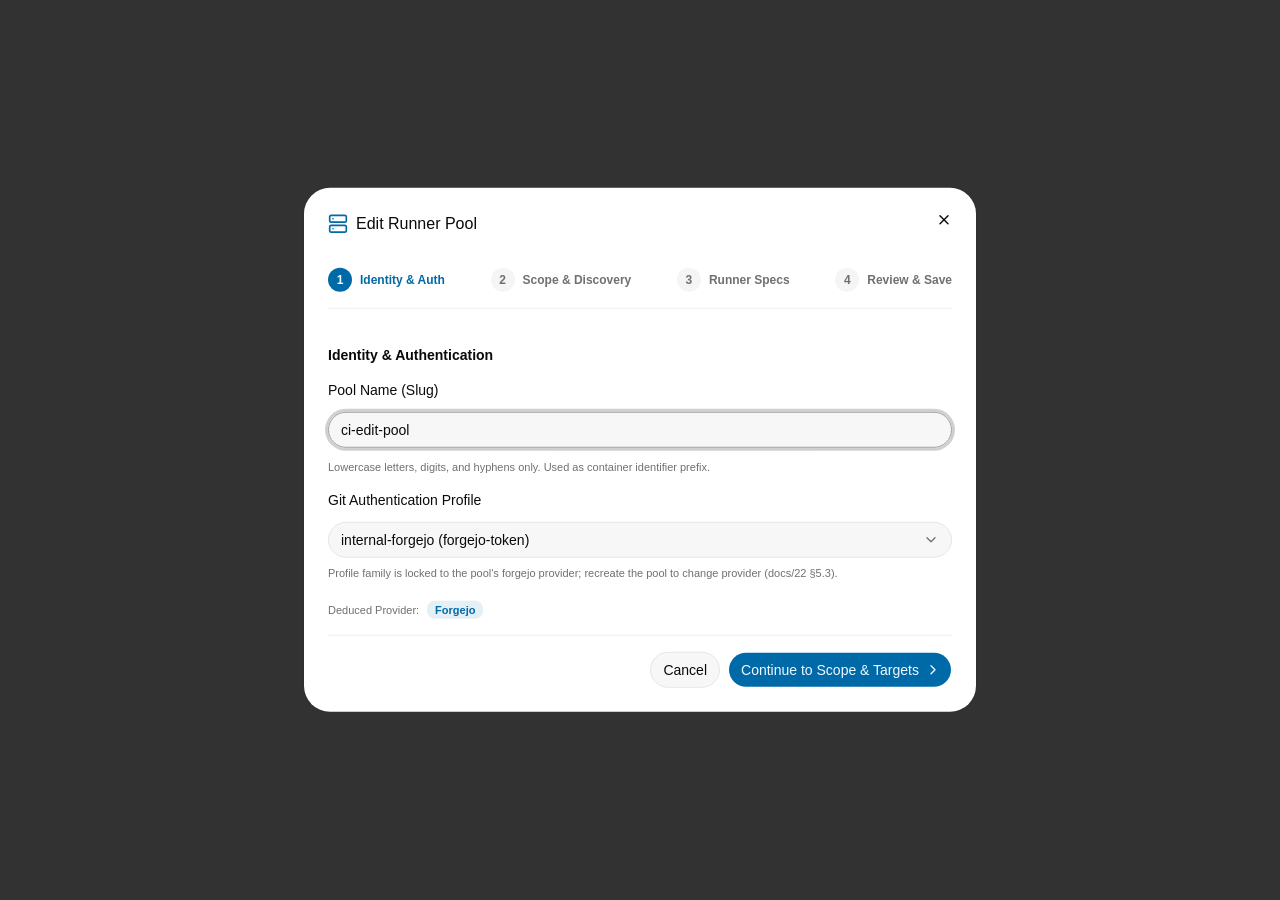
Test: PoolWizardModal (edit mode) › locks the auth profile selector to the pool's provider family
Click the dropdown named "Git Authentication Profile" at [435, 540], box [328,522,952,558]
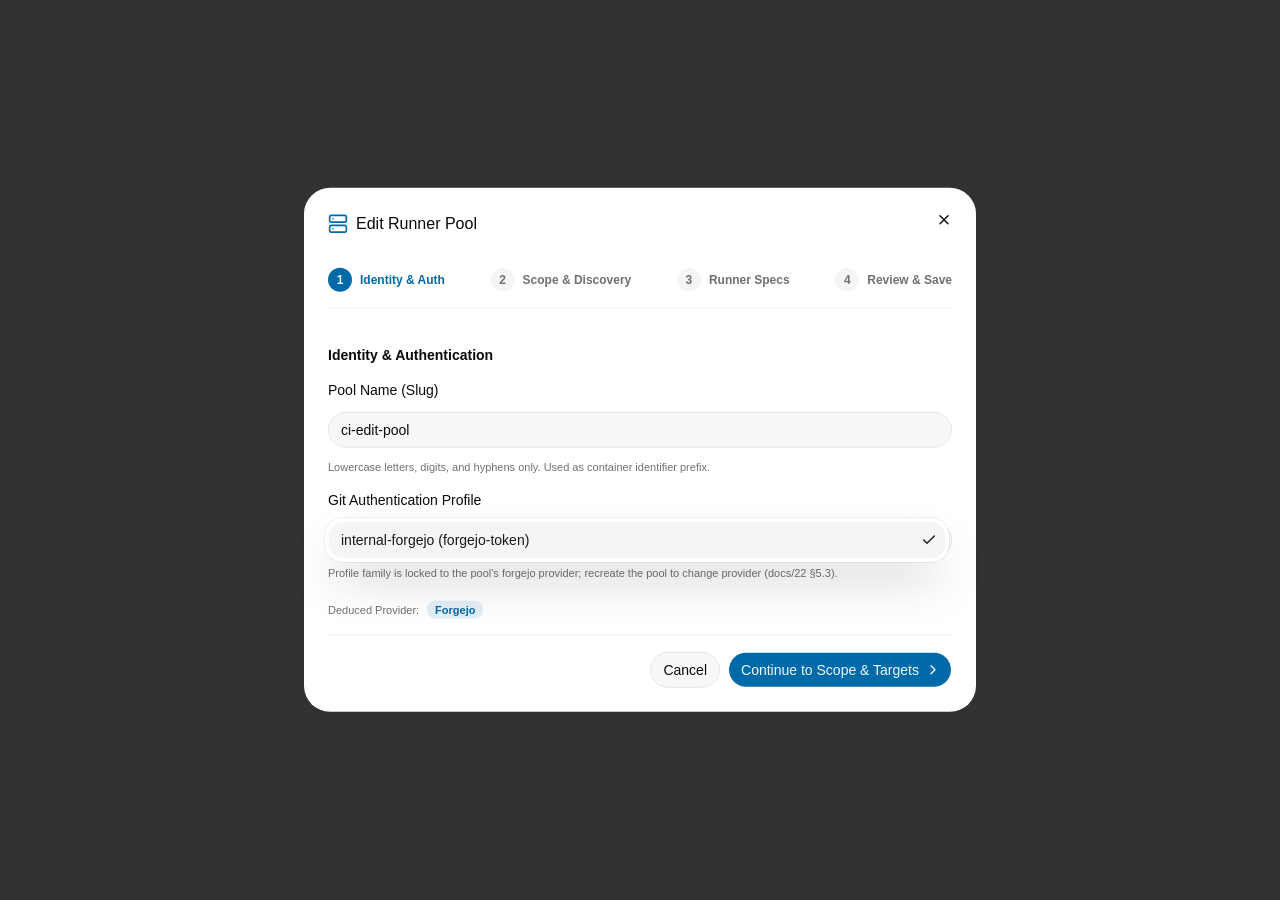
Expected: the text "Profile family is locked to the pool's forgejo provider" is shown, [328,567,838,579]
Expected: the number of options is 1, [329,522,945,558]
Expected: the option shows "internal-forgejo", [329,522,945,558]
